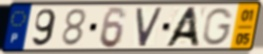6: (97, 5, 129, 50)
8: (60, 7, 89, 48)
9: (30, 7, 58, 48)
A: (162, 6, 202, 48)
G: (201, 7, 235, 47)
V: (134, 6, 165, 49)
